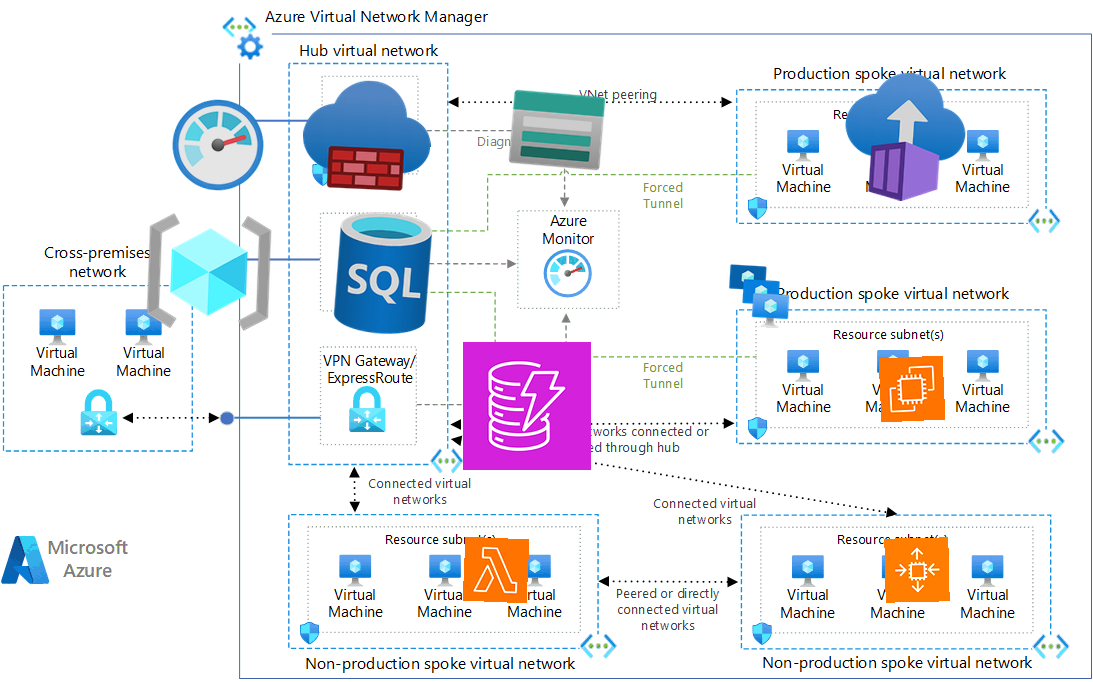aws_amazon_dynamodb: (462, 341, 592, 471)
aws_amazon_ec2: (878, 355, 946, 423)
aws_amazon_ec2_auto_scaling: (884, 537, 950, 603)
aws_lambda: (462, 536, 530, 604)
azure_container_instances: (836, 68, 974, 206)
azure_firewalls: (300, 68, 434, 202)
azure_monitor: (166, 93, 270, 197)
azure_resource_groups: (142, 205, 276, 339)
azure_sql_database: (314, 204, 452, 342)
azure_storage_accounts: (505, 78, 609, 182)
azure_vm_scale_sets: (724, 261, 792, 329)
